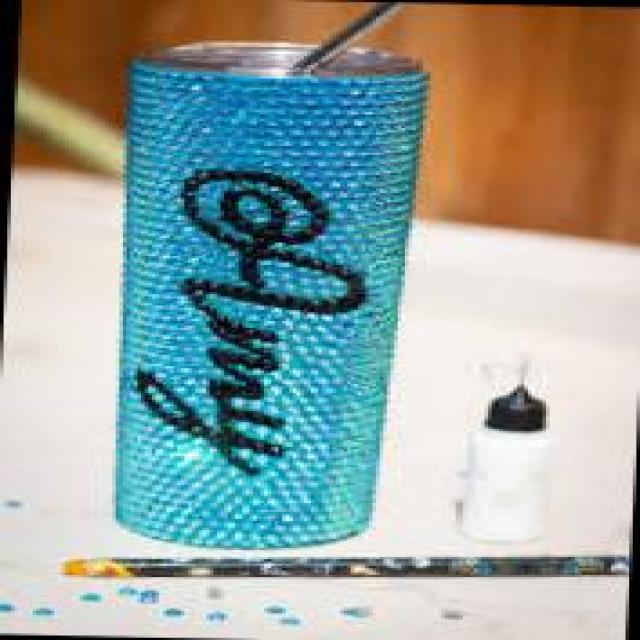bottle: (105, 0, 419, 550)
